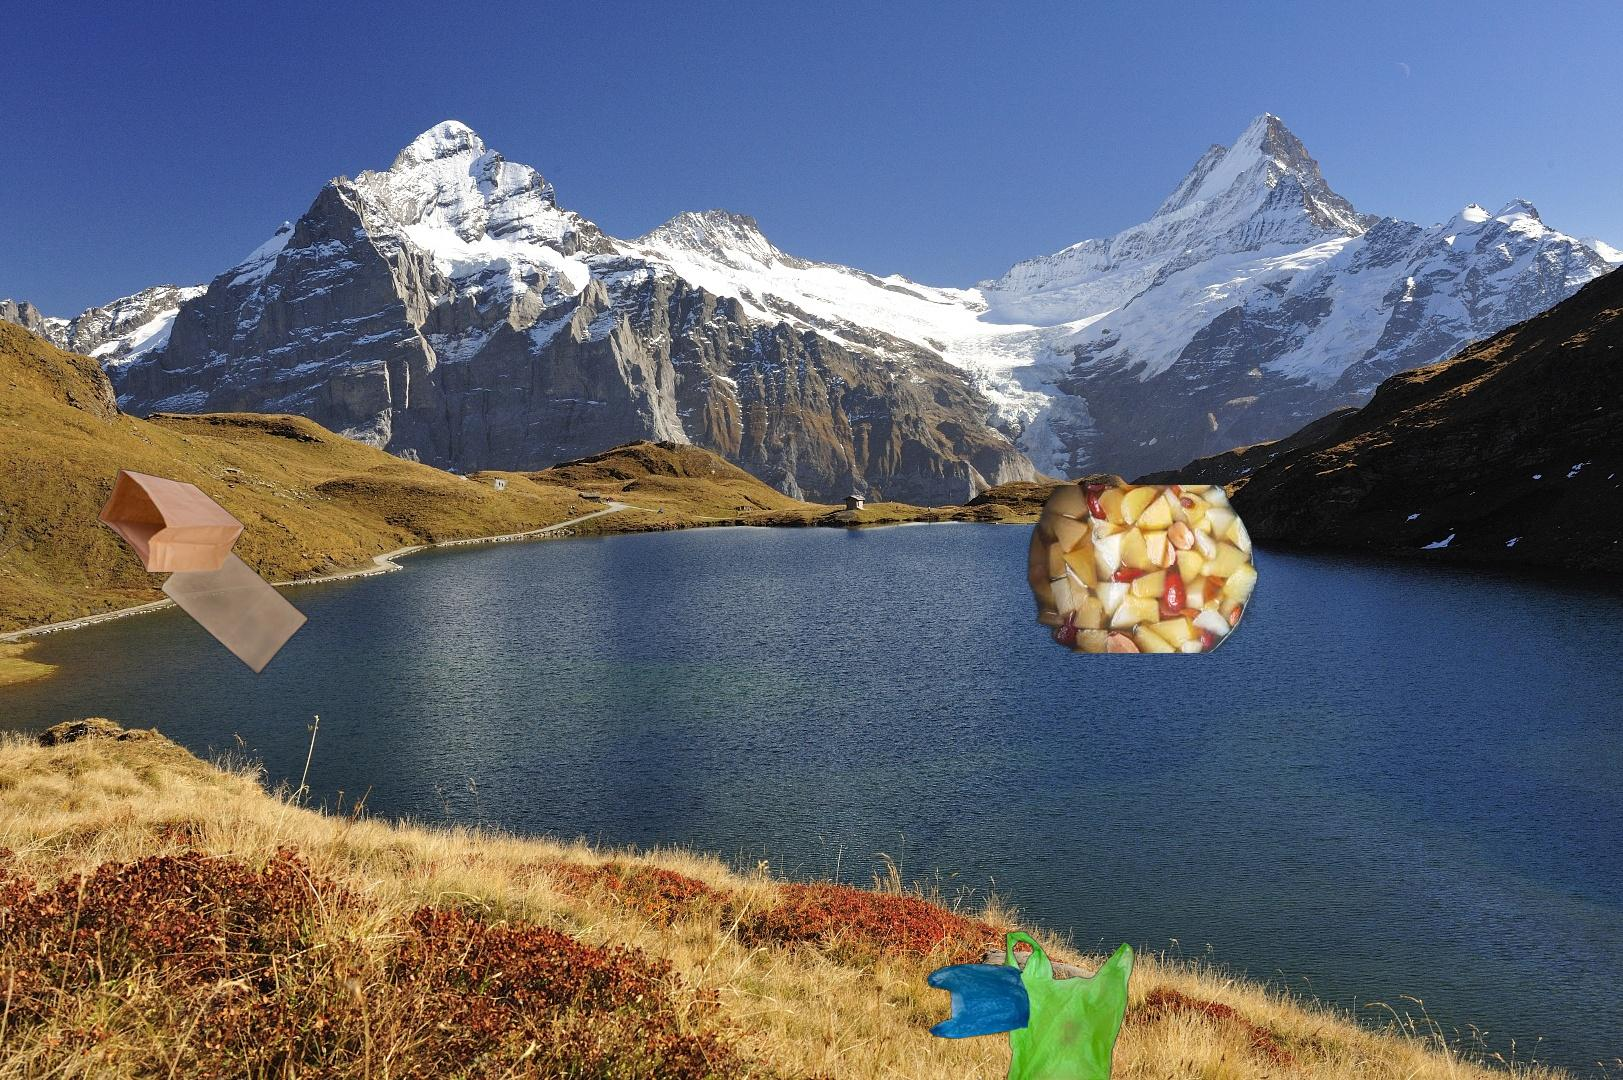biological: (1024, 485, 1262, 653)
paper-bag: (95, 468, 311, 714)
plastic-bag: (924, 928, 1137, 1080)
